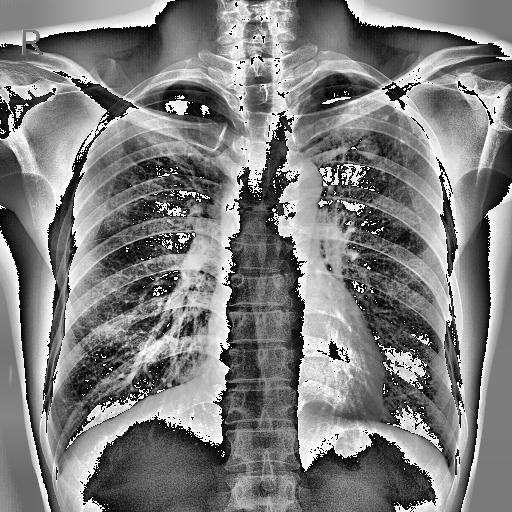0- Aortic enlargement: (266, 148, 324, 212)
11- Pleural thickening: (140, 79, 220, 97), (322, 71, 381, 87)
13- Pulmonary fibrosis: (117, 120, 199, 180), (380, 108, 420, 179), (382, 109, 397, 121)
8- Nodule-Mass: (354, 138, 382, 160), (355, 140, 381, 162), (356, 140, 384, 160)
